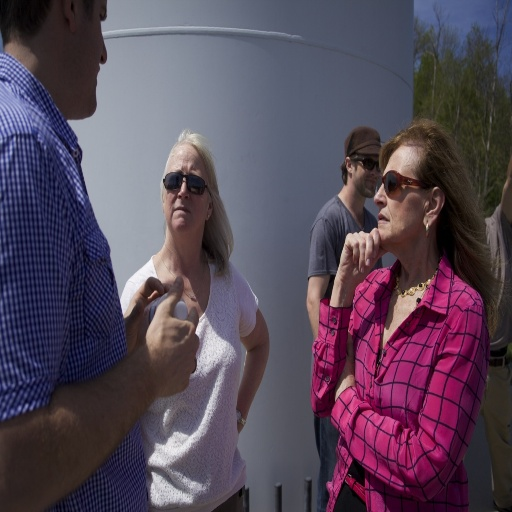hand: (130, 275, 198, 392), (336, 226, 388, 285), (123, 276, 173, 318), (334, 329, 355, 400)
